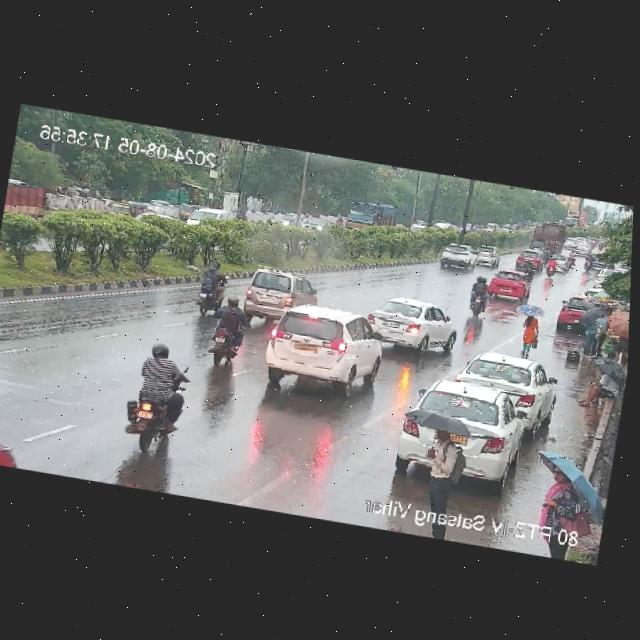car: (250, 294, 392, 403), (395, 376, 532, 481), (460, 347, 559, 418), (370, 294, 465, 358), (235, 260, 319, 325), (554, 291, 609, 334), (485, 267, 530, 302), (0, 419, 23, 468), (437, 246, 477, 272), (105, 196, 148, 219), (513, 247, 546, 273), (472, 242, 502, 268), (439, 240, 475, 253), (301, 215, 327, 232), (590, 268, 611, 289), (272, 209, 295, 225), (555, 254, 571, 273)
motorcycle: (118, 334, 189, 453), (201, 294, 253, 372), (184, 258, 233, 320), (459, 275, 496, 318), (517, 253, 540, 274), (541, 257, 557, 278), (582, 253, 595, 272), (567, 250, 577, 266)
person: (415, 412, 470, 515), (530, 466, 580, 527), (574, 362, 626, 415), (576, 302, 611, 357), (609, 313, 629, 366), (518, 313, 541, 357)
truck: (344, 197, 403, 240), (5, 180, 51, 222), (531, 216, 568, 253)
